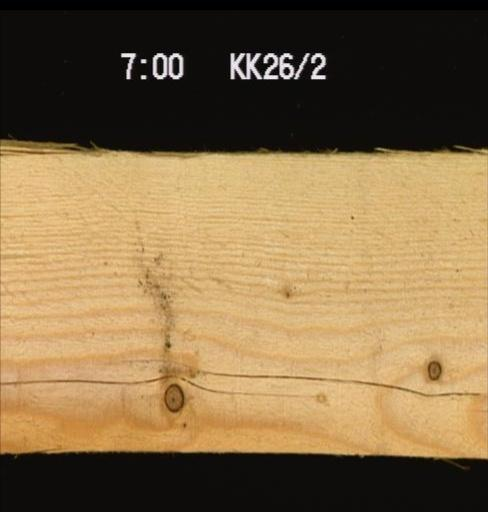dry_knot: (161, 380, 184, 412), (424, 357, 442, 381)
small_knot: (273, 279, 302, 307)
split: (0, 367, 315, 404), (204, 367, 482, 400)
